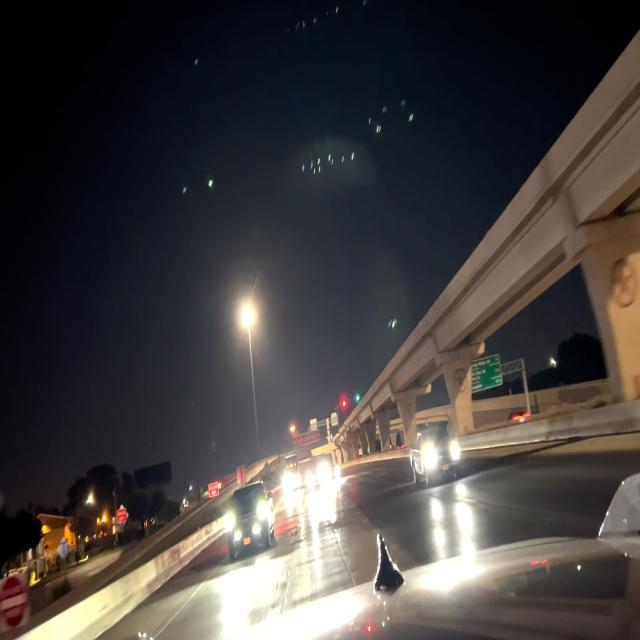back-of-sign: (292, 425, 321, 448), (234, 461, 249, 489)
